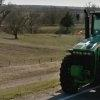Tractor: (49, 8, 100, 100)
